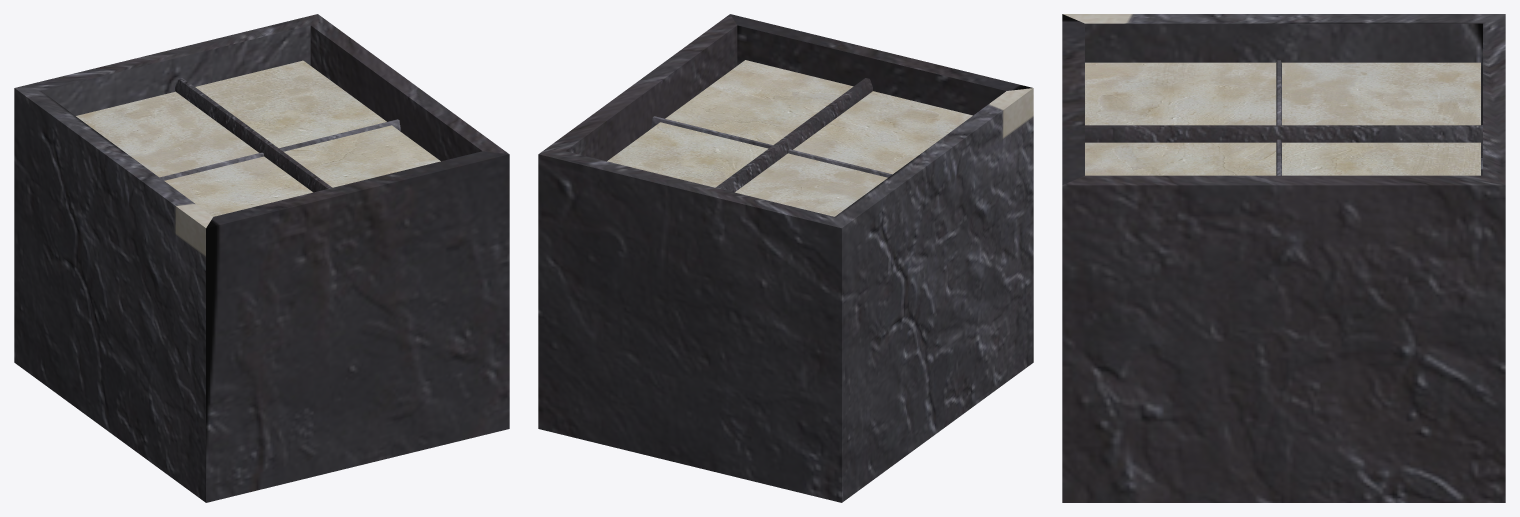
File: fish cake barrel.FBX
The picture shows the model from 3 angles, left to right: view 1: azimuth 30°, elevation 25°; view 2: azimuth 150°, elevation 25°; view 3: azimuth 270°, elevation 25°; orthographic projection. The views are drawn at different scales.
Parts seen in each view (by area): view 1: Object001; view 2: Object001; view 3: Object001.
Part boxes in pixels (box(x1,y1,x2,y2)): Object001: box(14, 14, 509, 502); Object001: box(538, 14, 1033, 502); Object001: box(1062, 14, 1505, 502).
Bounding box in the file's own units: 30.77 × 26.62 × 33.66.
Materials: 1 (1 with a texture image).
